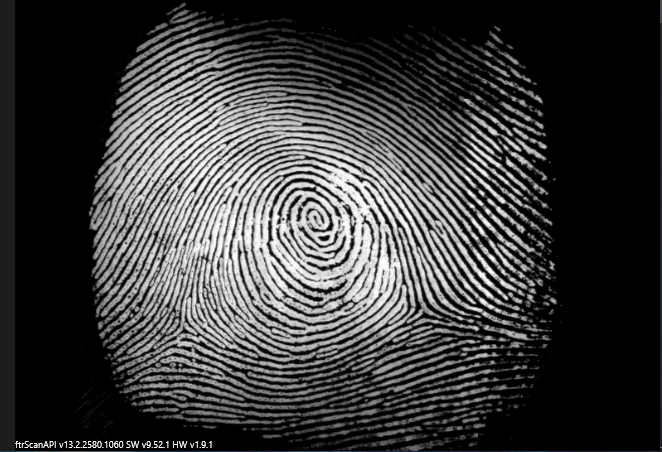nucelo: (294, 200, 334, 242)
verticilo: (404, 296, 447, 327), (165, 317, 203, 341)
